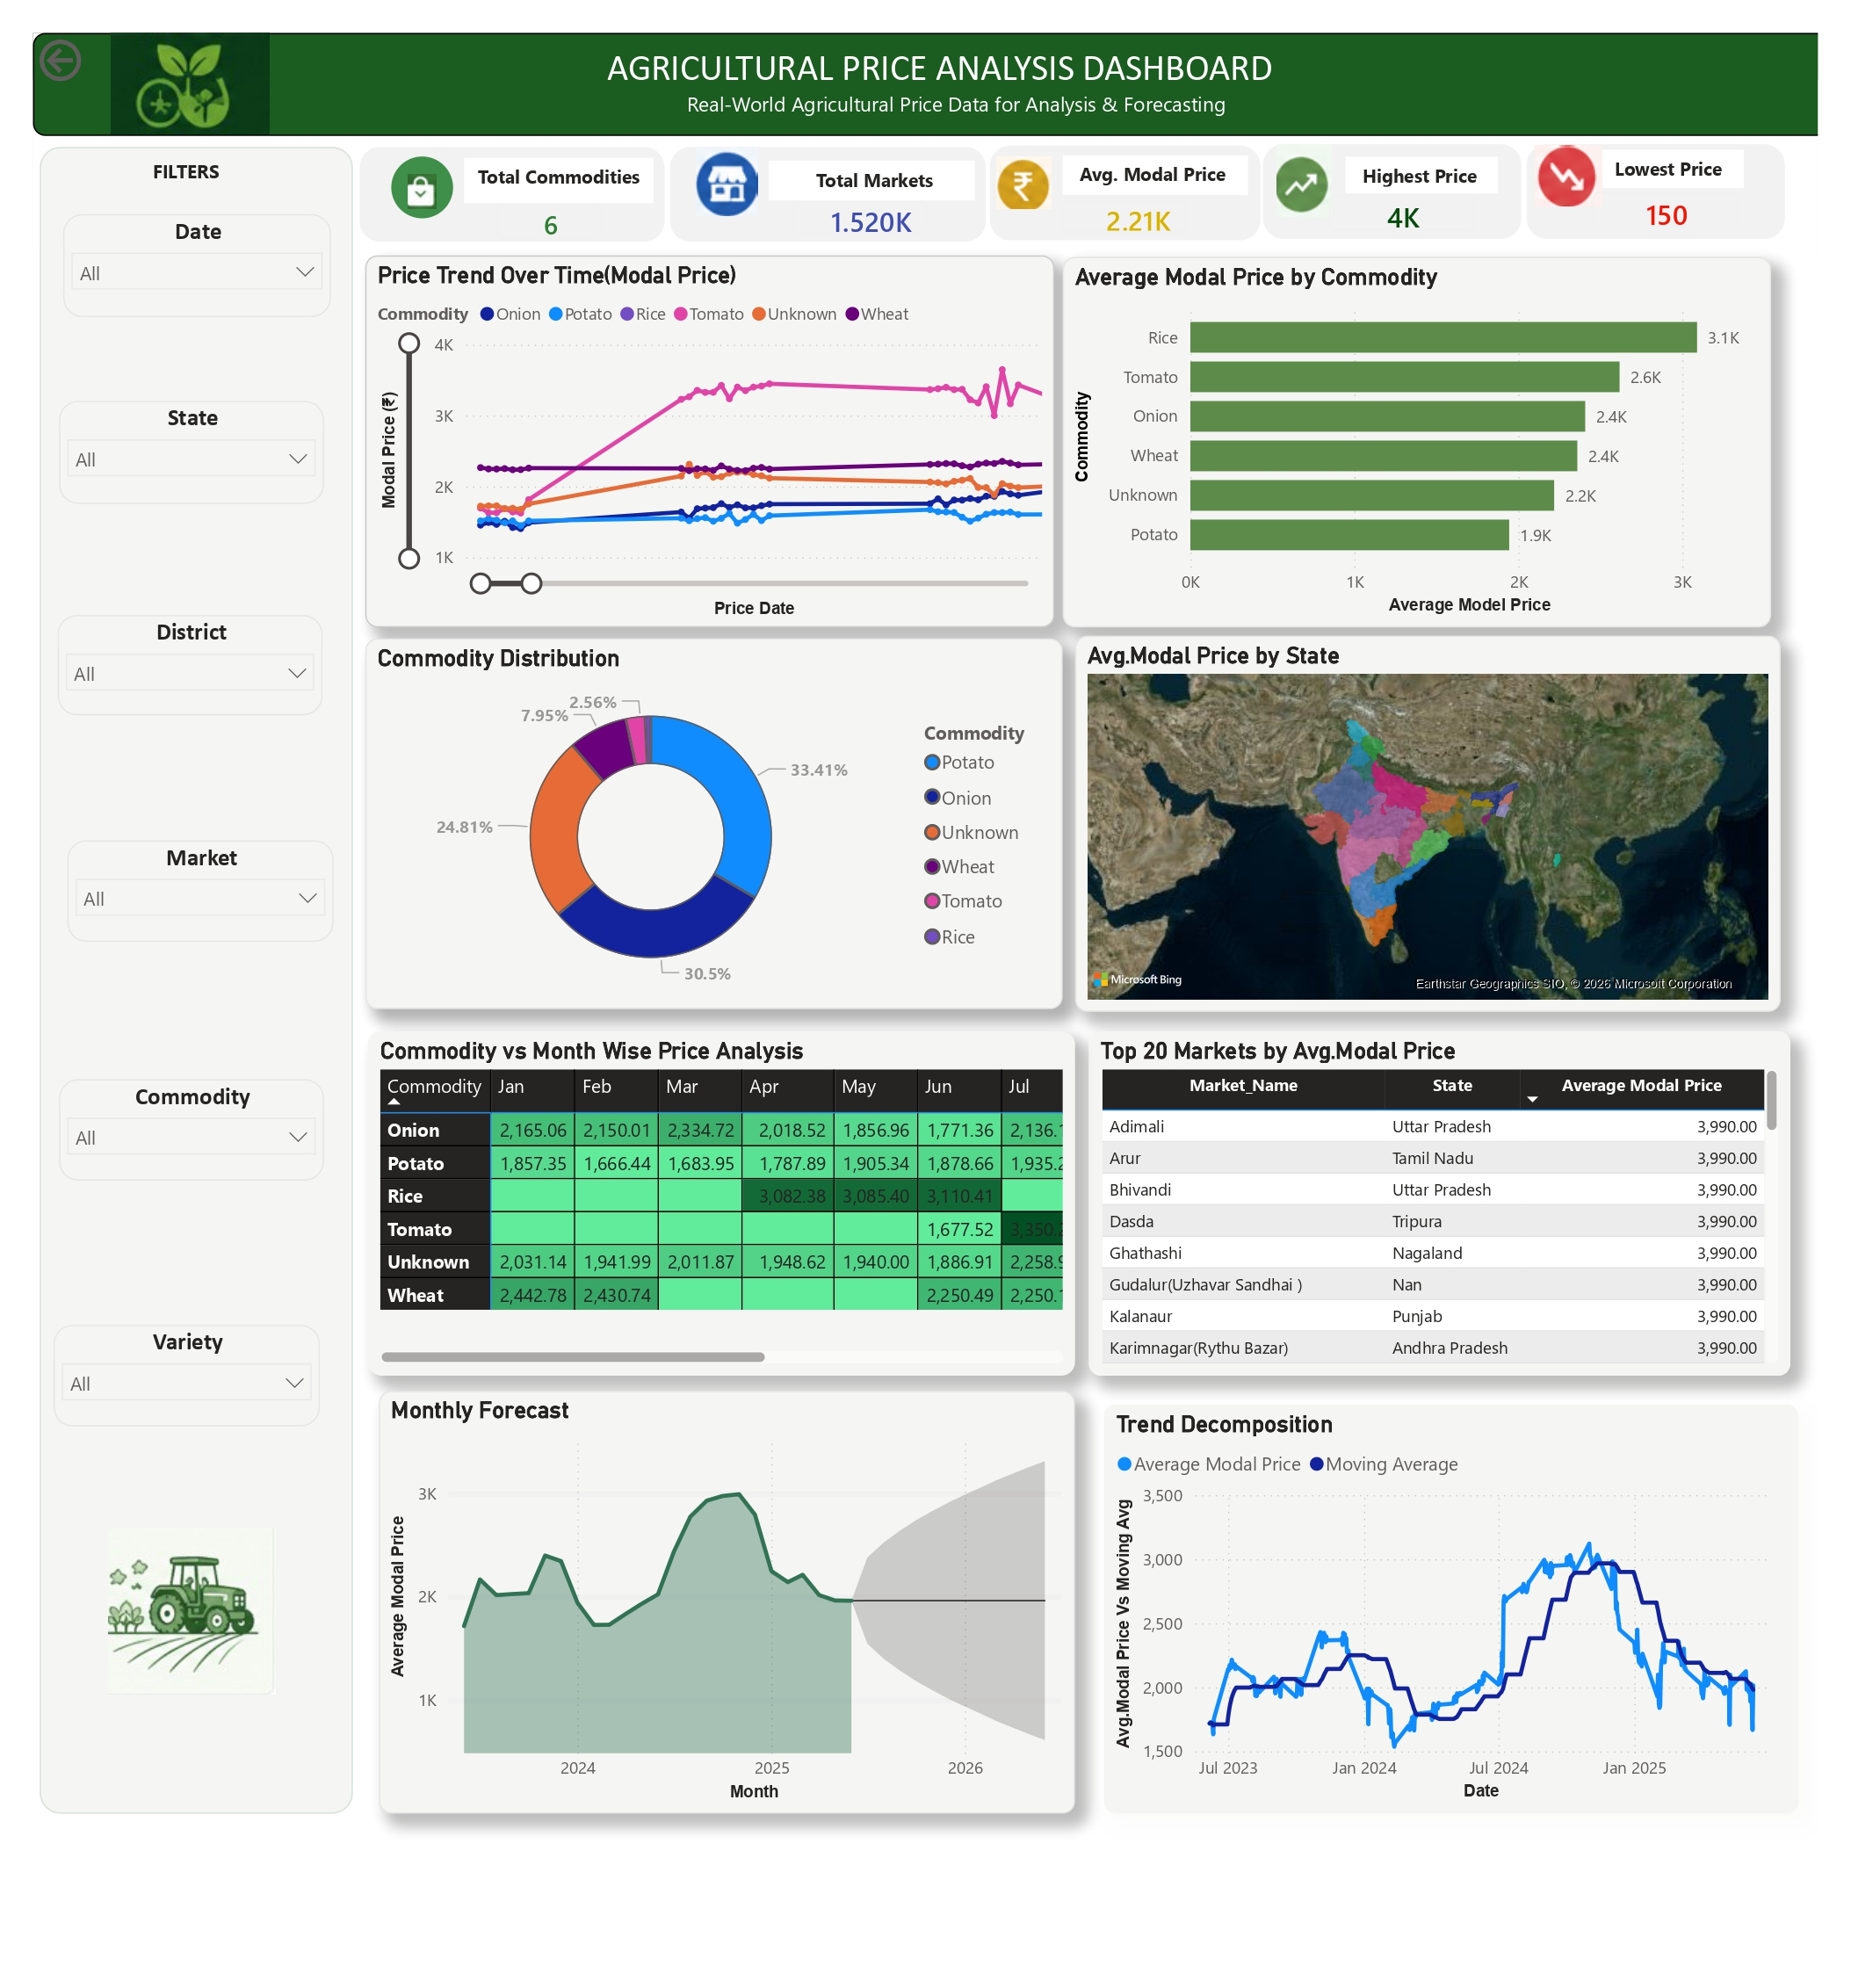

This screenshot's page, from the dashboard's own definition file:
{"tool":"powerbi","page":{"name":"Overview","canvas":[1300,1400],"ordinal":0},"visuals":[{"type":"textbox","box":[0,0,1500,74.5],"z":0},{"type":"image","box":[47.5,0,134.3,74.3],"z":1000},{"type":"shape","box":[5,83,228,1214],"z":2000},{"type":"textbox","box":[74.5,87.3,74.5,27.3],"z":3000},{"type":"slicer","title":"Date","fields":{"Values":["AgriCulture Data.Price_Date"]},"box":[22,132,195,75],"z":4000},{"type":"slicer","title":"State","fields":{"Values":["AgriCulture Data.State"]},"box":[19,268,193,75],"z":5000},{"type":"slicer","title":"District","fields":{"Values":["AgriCulture Data.District_Name"]},"box":[18,424,193,73],"z":6000},{"type":"slicer","title":"Market","fields":{"Values":["AgriCulture Data.Market_Name"]},"box":[25,588,194,74],"z":7000},{"type":"slicer","title":"Commodity","fields":{"Values":["AgriCulture Data.Commodity"]},"box":[19,762,193,74],"z":8000},{"type":"image","box":[25,1089,182,121],"z":9000},{"type":"shape","title":"Total","box":[238.2,83.3,222.1,69],"z":10000},{"type":"shape","box":[260.6,90.4,45.7,44.8],"z":11000},{"type":"image","box":[270.9,102.6,25.5,25.5],"z":12000},{"type":"cardVisual","fields":{"Data":["AgriCulture.Min Price"]},"box":[1118.5,98.5,139.7,59.9],"z":13000,"group":"g4"},{"type":"cardVisual","fields":{"Data":["AgriCulture.Max Price"]},"box":[926.9,101.2,139.7,59.9],"z":13000,"group":"g3"},{"type":"cardVisual","fields":{"Data":["AgriCulture.Total Markets"]},"box":[535.9,105,132.2,58.2],"z":13000,"group":"g1"},{"type":"cardVisual","fields":{"Data":["AgriCulture.Average Modal Price"]},"box":[732.4,105,125.4,57.2],"z":13000,"group":"g2"},{"type":"cardVisual","fields":{"Data":["AgriCulture.Total Commodities"]},"box":[320.6,106.6,110.1,60.9],"z":13000},{"type":"lineChart","title":"Price Trend Over Time(Modal Price)","fields":{"Category":["AgriCulture.Price_Date"],"Y":["Avg(AgriCulture.Modal_Price)"],"Series":["AgriCulture.Commodity"]},"box":[241.8,162.1,502.4,270.4],"z":14000},{"type":"textbox","box":[314.3,91.3,137.9,33.1],"z":15000},{"type":"clusteredBarChart","fields":{"Category":["AgriCulture.Commodity"],"Y":["AgriCulture.Average Modal Price"]},"box":[749.6,163,516.7,269.6],"z":16000},{"type":"donutChart","title":"Commodity Distribution","fields":{"Category":["AgriCulture.Commodity"],"Y":["CountNonNull(AgriCulture.Modal_Price)"]},"box":[241.8,440.6,507.8,270.4],"z":17000},{"type":"filledMap","title":"Avg.Modal Price by State","fields":{"Category":["AgriCulture.State"],"Series":["AgriCulture.State"]},"box":[759,439,514,274],"z":18000},{"type":"actionButton","box":[0,0,100,40],"z":19000},{"type":"shape","title":"Total","box":[463.9,83.3,230.1,69],"z":20000},{"type":"group","id":"g1","title":"Group 1","box":[535.9,105,132.3,58.4],"z":21000},{"type":"image","box":[482.7,83.3,45.7,50.1],"z":22000},{"type":"textbox","box":[535.5,93.1,150.4,28.7],"z":23000},{"type":"shape","title":"Total","box":[697.4,81.7,196.5,69.1],"z":24000},{"type":"shape","title":"Total","box":[895.8,80.7,187.7,69.1],"z":25000},{"type":"shape","title":"Total","box":[1088.1,80.6,188.1,69],"z":26000},{"type":"image","box":[700.3,89.6,43.9,38.5],"z":27000},{"type":"textbox","box":[749.9,89.5,135.2,28.2],"z":28000},{"type":"group","id":"g2","title":"Group 1","box":[732.4,105,125.5,57.4],"z":29000},{"type":"textbox","box":[956.4,90.4,110.1,26.9],"z":30000},{"type":"image","box":[904.5,81.5,43.9,52.8],"z":31000},{"type":"group","id":"g3","title":"Group 1","box":[926.9,101.2,139.7,60.9],"z":32000},{"type":"textbox","box":[1136.4,85.1,109.3,27.8],"z":33000},{"type":"image","box":[1094.3,79.7,48.4,48.4],"z":34000},{"type":"group","id":"g4","title":"Group 1","box":[1118.5,98.5,139.7,60.9],"z":35000},{"type":"slicer","title":"Variety","fields":{"Values":["AgriCulture.Variety"]},"box":[15,941,194,74],"z":36000},{"type":"pivotTable","title":"Commodity vs Month Wise Price Analysis","fields":{"Rows":["AgriCulture.Commodity"],"Values":["AgriCulture.Average Modal Price"],"Columns":["AgriCulture.Month_Name"]},"box":[243.6,727.3,515.5,250.9],"z":37000},{"type":"tableEx","title":"Top 20 Markets by Avg.Modal Price","fields":{"Values":["AgriCulture.Market_Name","AgriCulture.State","AgriCulture.Average Modal Price"]},"box":[769,727,511,251],"z":38000},{"type":"actionButton","box":[0,0,100,40],"z":39000},{"type":"lineChart","title":"Monthly Forecast","fields":{"Y":["AgriCulture.Average Modal Price"],"Category":["AgriCulture.MonthStart"]},"box":[252,989,507,308],"z":40000},{"type":"lineChart","title":"Trend Decomposition ","fields":{"Y":["AgriCulture.Average Modal Price","Date Table.Moving Average"],"Category":["Date Table.Date"]},"box":[780,999,506,298],"z":41000}]}

Visuals, with their boxes in screenshot pixels (x1, y1, x2, y2), scaled from the page's 1300x1400 canvas onto the 1851x1988 screenshot:
textbox: [0, 0, 1850, 105]
image: [68, 0, 259, 105]
shape: [7, 118, 332, 1842]
textbox: [106, 124, 212, 163]
"Date" slicer: [32, 187, 309, 294]
"State" slicer: [27, 380, 302, 487]
"District" slicer: [25, 602, 300, 705]
"Market" slicer: [36, 835, 312, 940]
"Commodity" slicer: [27, 1082, 302, 1187]
image: [36, 1546, 294, 1718]
"Total" shape: [339, 119, 655, 216]
shape: [371, 128, 436, 192]
image: [386, 146, 422, 182]
cardVisual - AgriCulture.Min Price: [1593, 140, 1791, 225]
cardVisual - AgriCulture.Max Price: [1320, 144, 1519, 228]
cardVisual - AgriCulture.Total Markets: [763, 149, 951, 232]
cardVisual - AgriCulture.Average Modal Price: [1043, 149, 1221, 230]
cardVisual - AgriCulture.Total Commodities: [457, 151, 613, 238]
"Price Trend Over Time(Modal Price)" lineChart: [344, 230, 1059, 614]
textbox: [447, 130, 644, 177]
clusteredBarChart - AgriCulture.Commodity x AgriCulture.Average Modal Price: [1067, 231, 1803, 614]
"Commodity Distribution" donutChart: [344, 625, 1067, 1009]
"Avg.Modal Price by State" filledMap: [1081, 624, 1812, 1013]
actionButton: [0, 0, 142, 57]
"Total" shape: [661, 119, 988, 216]
"Group 1" group: [763, 149, 951, 232]
image: [687, 119, 752, 190]
textbox: [763, 132, 977, 173]
"Total" shape: [993, 116, 1273, 214]
"Total" shape: [1276, 114, 1543, 213]
"Total" shape: [1550, 114, 1817, 213]
image: [997, 127, 1059, 182]
textbox: [1067, 127, 1261, 167]
"Group 1" group: [1043, 149, 1221, 231]
textbox: [1362, 128, 1519, 167]
image: [1288, 116, 1350, 191]
"Group 1" group: [1320, 144, 1519, 230]
textbox: [1618, 121, 1774, 160]
image: [1558, 113, 1627, 182]
"Group 1" group: [1593, 140, 1791, 227]
"Variety" slicer: [21, 1336, 298, 1442]
"Commodity vs Month Wise Price Analysis" pivotTable: [347, 1033, 1081, 1389]
"Top 20 Markets by Avg.Modal Price" tableEx: [1095, 1032, 1823, 1389]
actionButton: [0, 0, 142, 57]
"Monthly Forecast" lineChart: [358, 1405, 1081, 1842]
"Trend Decomposition " lineChart: [1110, 1419, 1831, 1842]
